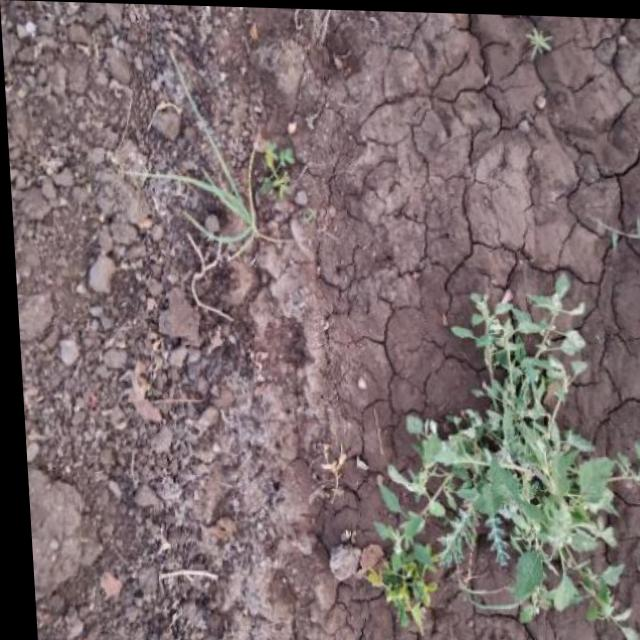weed: (358, 286, 640, 640), (109, 44, 339, 314)
